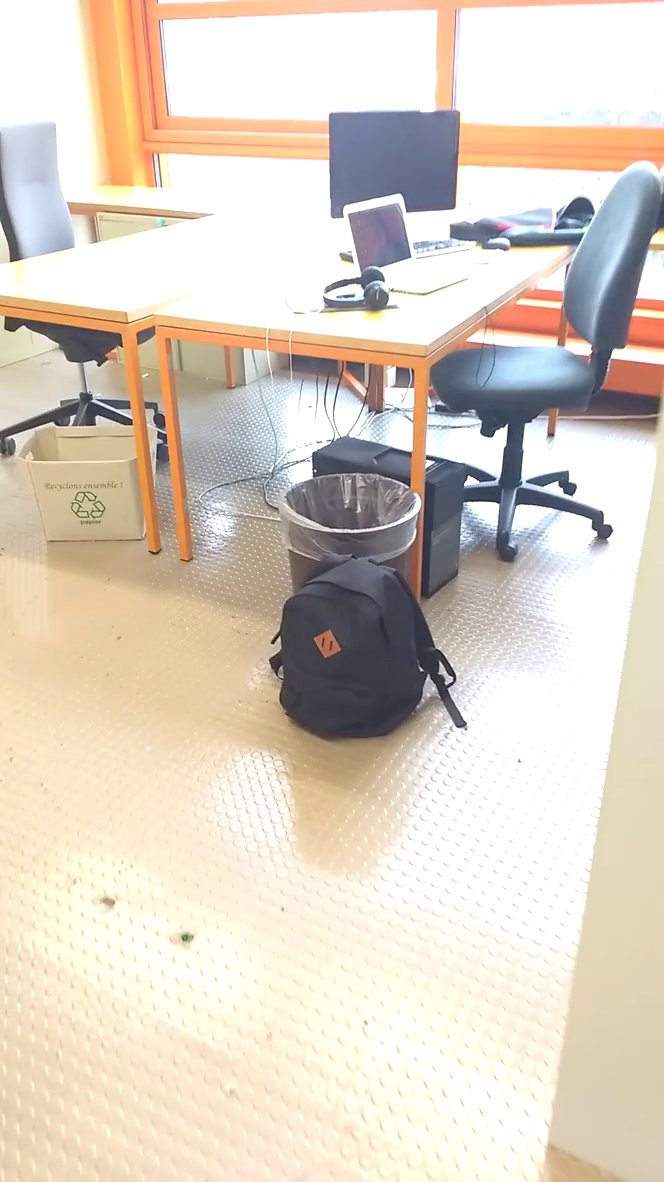bag: (264, 551, 473, 747)
bin: (274, 463, 430, 572)
box: (10, 418, 175, 545)
chair: (425, 150, 664, 556), (1, 100, 153, 418)
laptop: (335, 183, 491, 297)
